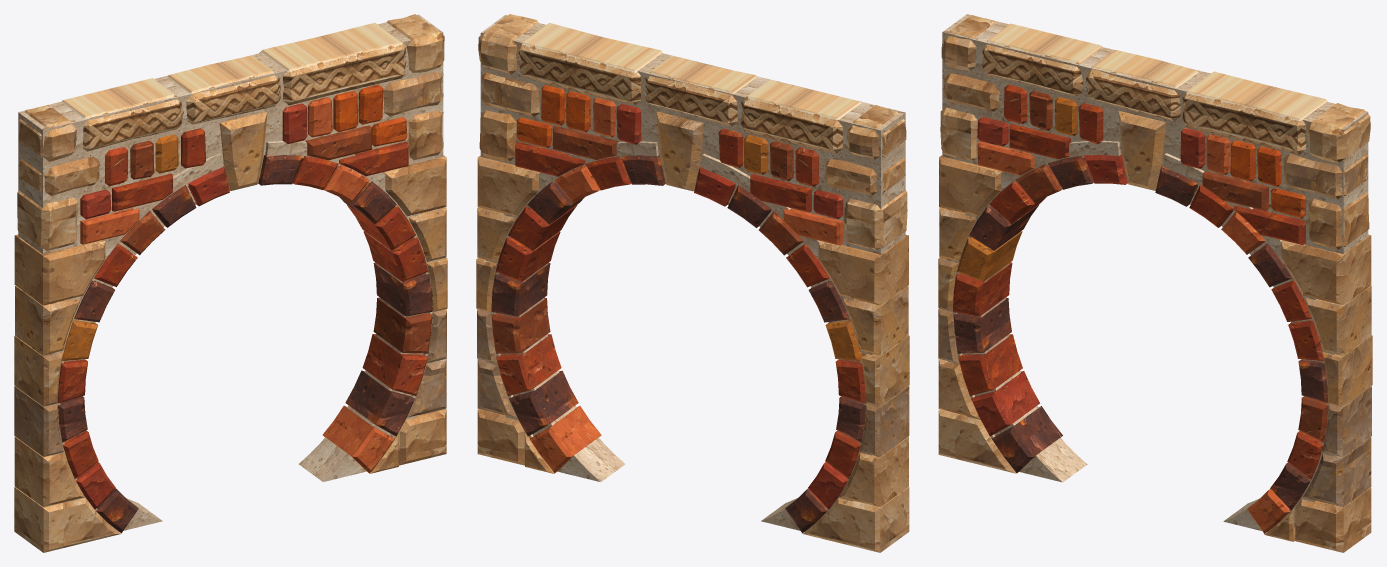
File: doorway__clay_brick.glb
3 views of the same model, side by side, from view 1: azimuth 30°, elevation 25°; view 2: azimuth 150°, elevation 25°; view 3: azimuth 330°, elevation 25° (orthographic).
Parts seen in each view (by area): view 1: model; view 2: model; view 3: model.
Boxes of the visible parts, <box> form: model: <box>14,14,447,552</box>; model: <box>476,14,909,552</box>; model: <box>938,14,1372,552</box>.
Bounding box in the file's own units: 1.98 × 1.98 × 0.2862.
Materials: 14 (14 with a texture image).
